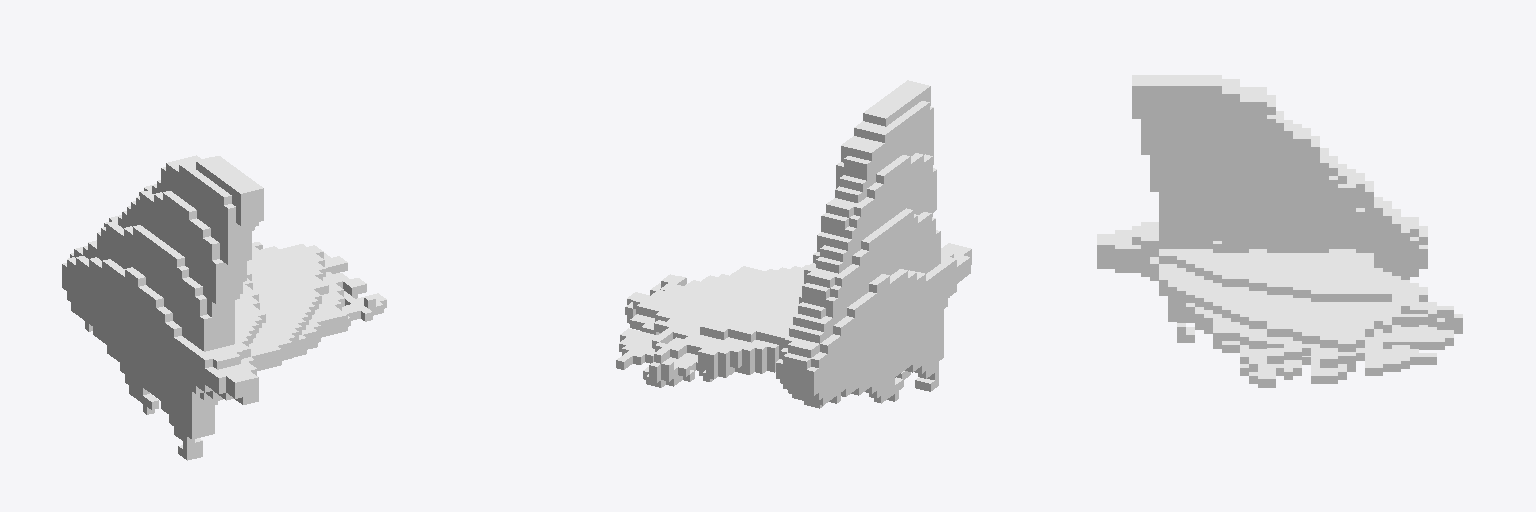
File: Airplane-4.obj
The picture shows the model from 3 angles: view 1: azimuth 30°, elevation 25°; view 2: azimuth 150°, elevation 25°; view 3: azimuth 270°, elevation 25°; orthographic projection.
Visible parts, largest first — view 1: object 1; view 2: object 1; view 3: object 1.
Boxes of the visible parts, x1=… form: object 1: x1=62, y1=155, x2=386, y2=460; object 1: x1=616, y1=80, x2=971, y2=408; object 1: x1=1097, y1=75, x2=1462, y2=387.
Size of the model in its own units: 3.1 by 3.4 by 4.1.